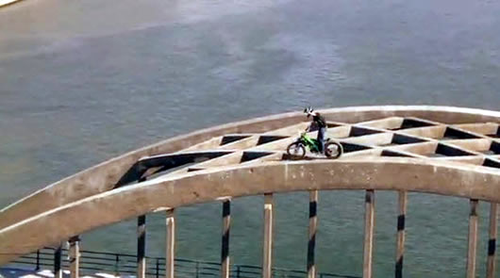bikerider: (284, 106, 344, 164)
